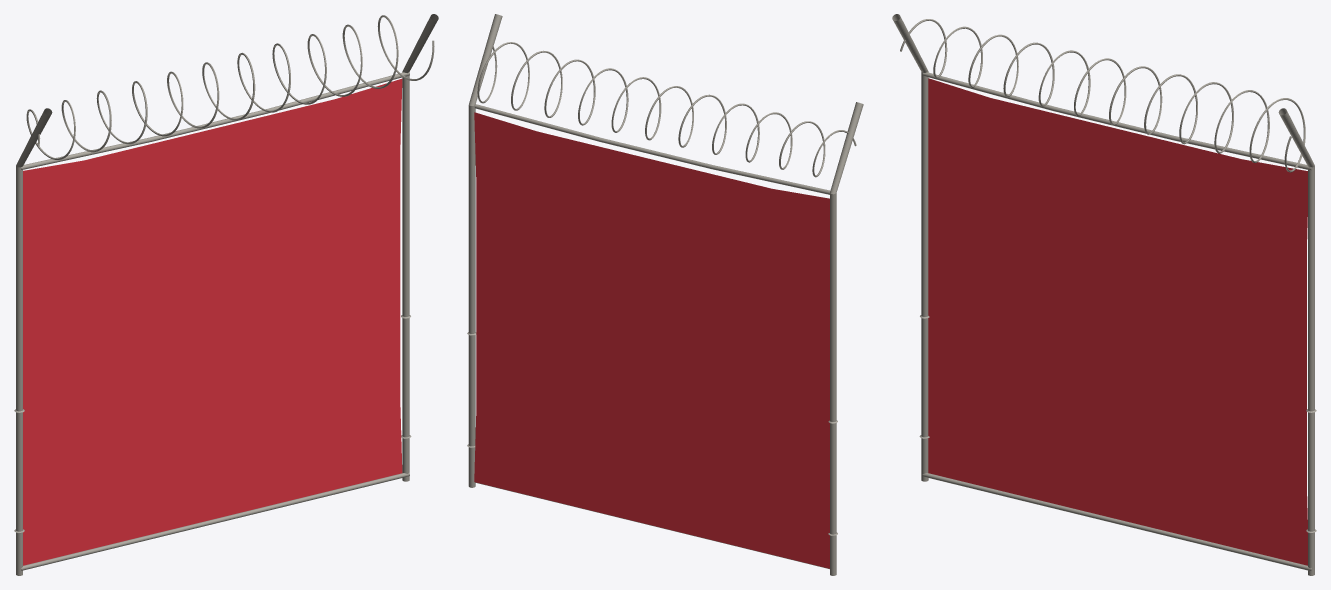
The model's file is fence_high_01.fbx.
3 views of the same model, side by side, from view 1: azimuth 30°, elevation 25°; view 2: azimuth 150°, elevation 25°; view 3: azimuth 330°, elevation 25° (orthographic). The views are drawn at different scales.
Parts seen in each view (by area): view 1: fence_high_01; view 2: fence_high_01; view 3: fence_high_01.
Boxes of the visible parts, <box> form: fence_high_01: <box>14,14,438,575</box>; fence_high_01: <box>467,14,863,575</box>; fence_high_01: <box>892,14,1316,575</box>.
Size of the model in its own units: 333 by 390 by 58.55.
